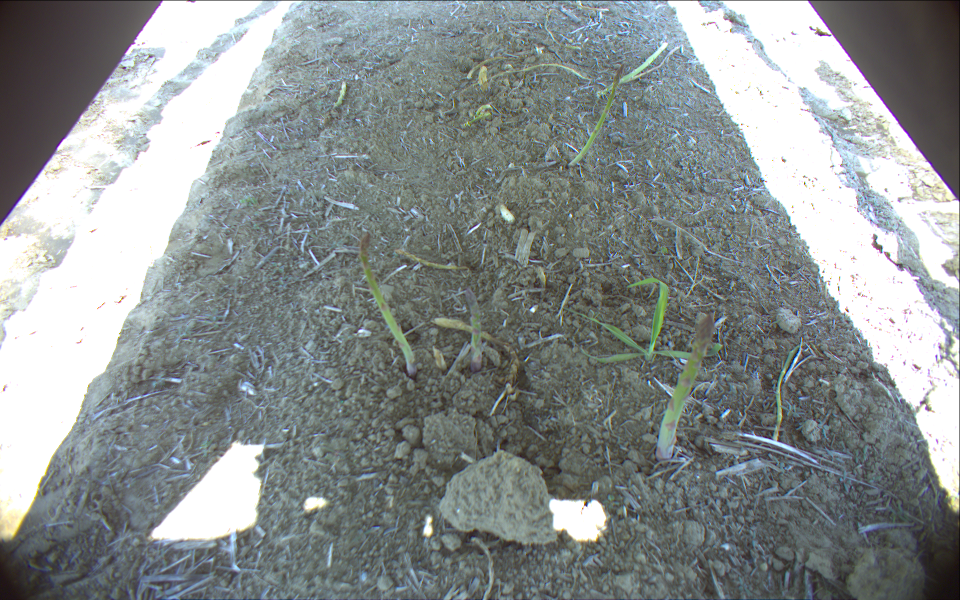aspa: (657, 314, 717, 461), (358, 230, 417, 376), (567, 63, 625, 166), (436, 319, 520, 389), (772, 339, 825, 443), (594, 43, 668, 98), (460, 63, 601, 85), (394, 248, 469, 271), (464, 287, 483, 374), (329, 80, 350, 114)
